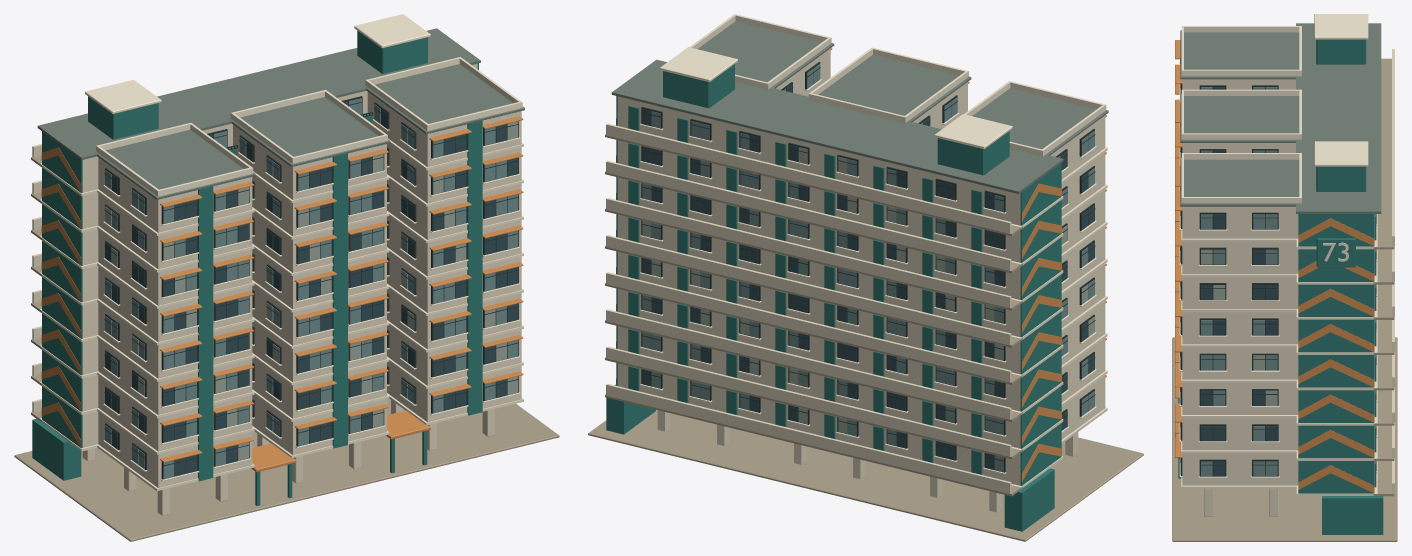
The picture shows the model from 3 angles, left to right: view 1: azimuth 30°, elevation 25°; view 2: azimuth 150°, elevation 25°; view 3: azimuth 270°, elevation 25°; orthographic projection. The views are drawn at different scales.
Parts seen in each view (by area): view 1: Residential fingers, Casement assemblies, Sheltered void deck, Painted stair cheeks, Monsoon sunhoods, Lift overruns, Common gallery; view 2: Residential fingers, Common gallery, Casement assemblies, Sheltered void deck, Flat entries, Painted stair cheeks, Lift overruns; view 3: Residential fingers, Painted stair cheeks, Sheltered void deck, Casement assemblies, Common gallery, Lift overruns, Monsoon sunhoods, Street lettering, Flat entries.
Part boxes in pixels (x1=…): Residential fingers: x1=37, y1=28, x2=524, y2=490; Casement assemblies: x1=103, y1=96, x2=520, y2=481; Sheltered void deck: x1=14, y1=398, x2=559, y2=541; Painted stair cheeks: x1=41, y1=63, x2=478, y2=448; Monsoon sunhoods: x1=160, y1=116, x2=523, y2=462; Lift overruns: x1=85, y1=14, x2=430, y2=139; Common gallery: x1=31, y1=144, x2=41, y2=421; Residential fingers: x1=611, y1=14, x2=1108, y2=487; Common gallery: x1=605, y1=123, x2=1022, y2=496; Casement assemblies: x1=640, y1=62, x2=1096, y2=474; Sheltered void deck: x1=588, y1=384, x2=1143, y2=541; Flat entries: x1=628, y1=105, x2=982, y2=474; Painted stair cheeks: x1=616, y1=96, x2=1061, y2=485; Lift overruns: x1=660, y1=47, x2=1012, y2=175; Residential fingers: x1=1180, y1=23, x2=1381, y2=496; Painted stair cheeks: x1=1298, y1=214, x2=1374, y2=493; Sheltered void deck: x1=1172, y1=337, x2=1397, y2=541; Casement assemblies: x1=1179, y1=59, x2=1377, y2=478; Common gallery: x1=1373, y1=49, x2=1394, y2=496; Lift overruns: x1=1314, y1=14, x2=1368, y2=191; Monsoon sunhoods: x1=1175, y1=40, x2=1182, y2=457; Street lettering: x1=1316, y1=238, x2=1355, y2=267; Flat entries: x1=1374, y1=214, x2=1376, y2=487.
Bounding box in the file's own units: 37 × 29.91 × 17.35.
